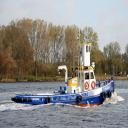tugboat: (12, 43, 117, 112)
